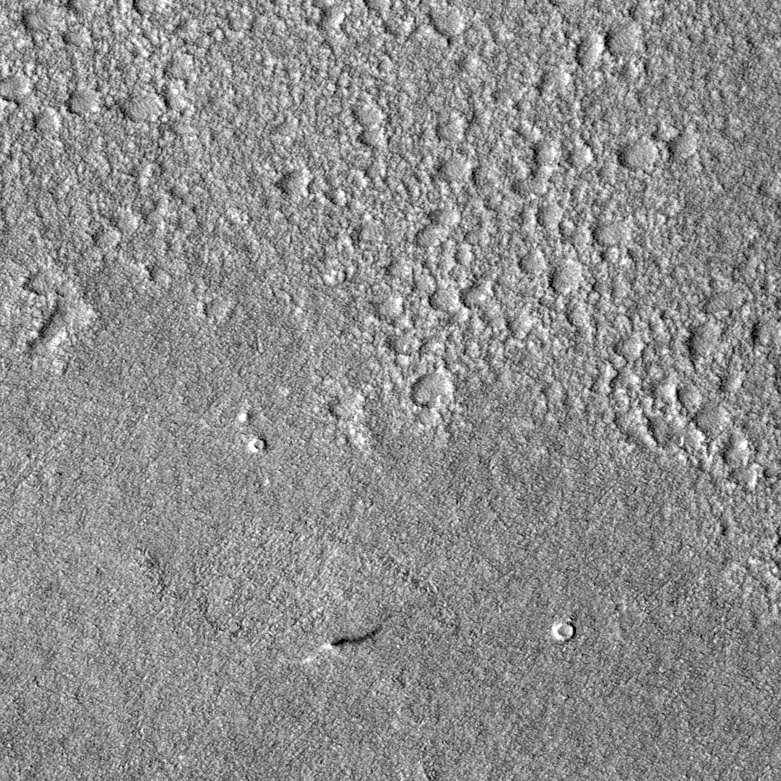dust_devil: (302, 622, 385, 666)
